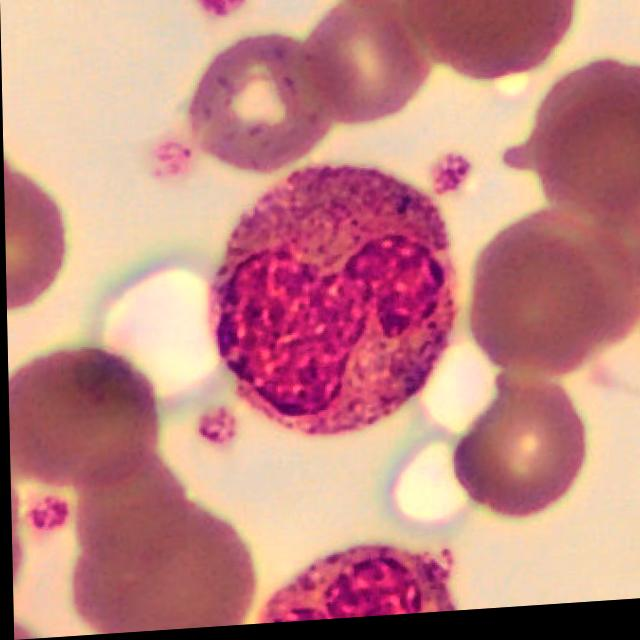Neutrofilo segmentado: (212, 176, 449, 440)
